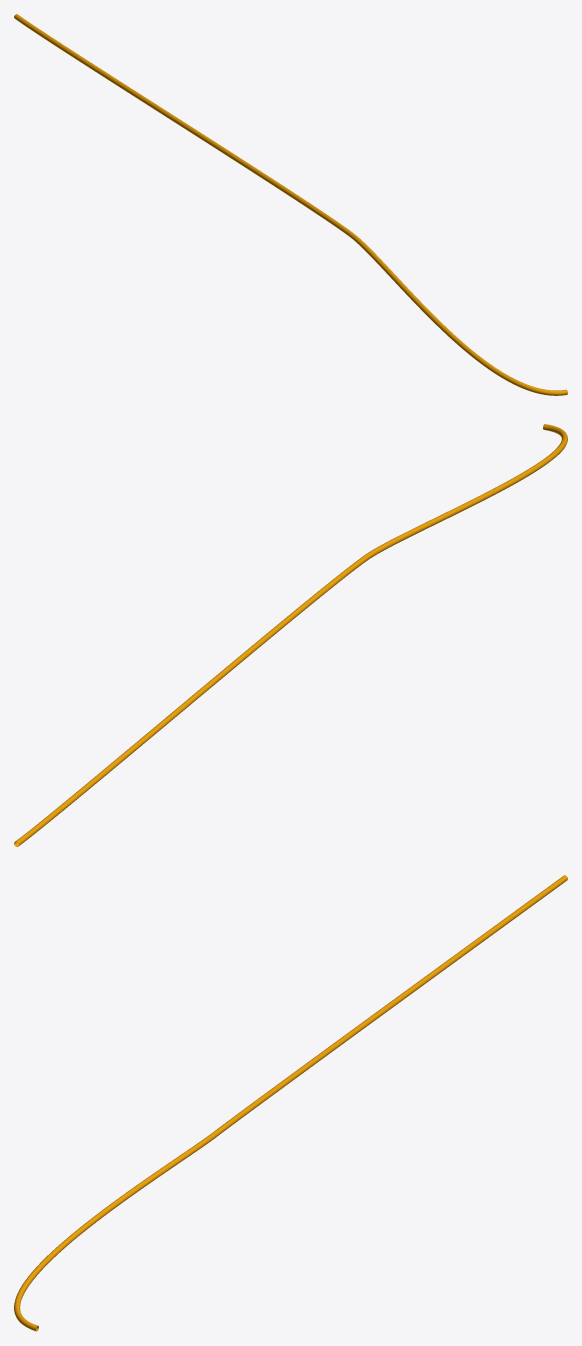
File: cable doblado mas abajo .fbx
3 renders of one model, top to bottom at view 1: azimuth 30°, elevation 25°; view 2: azimuth 150°, elevation 25°; view 3: azimuth 330°, elevation 25°, orthographic. The views are drawn at different scales.
Parts seen in each view (by area): view 1: BézierCurve; view 2: BézierCurve; view 3: BézierCurve.
Boxes of the visible parts, box(x1,y1,x2,y2) form: BézierCurve: box(14, 14, 567, 395); BézierCurve: box(14, 424, 567, 846); BézierCurve: box(14, 875, 567, 1331).
Size of the model in its own units: 39.35 by 26.96 by 751.
